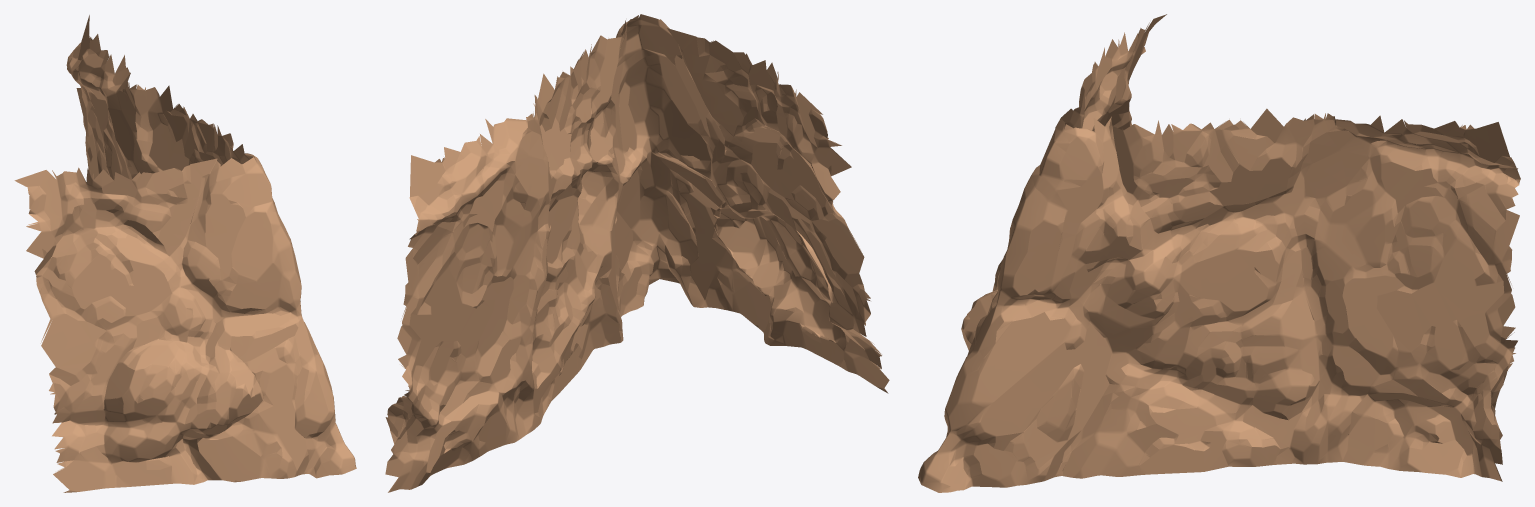
File: SandstoneBig_Mesh_40_003LODs.fbx
The picture shows the model from 3 angles, left to right: view 1: azimuth 30°, elevation 25°; view 2: azimuth 150°, elevation 25°; view 3: azimuth 270°, elevation 25°; orthographic projection. The views are drawn at different scales.
Parts seen in each view (by area): view 1: Mesh_40.003_LOD0; view 2: Mesh_40.003_LOD0; view 3: Mesh_40.003_LOD0.
Part boxes in pixels (left/top/right/bottom): Mesh_40.003_LOD0: left=14, top=15, right=356, bottom=492; Mesh_40.003_LOD0: left=385, top=14, right=889, bottom=492; Mesh_40.003_LOD0: left=918, top=14, right=1520, bottom=492.
Size of what is drawn, in the model's own units: 6398 by 7072 by 10821.
